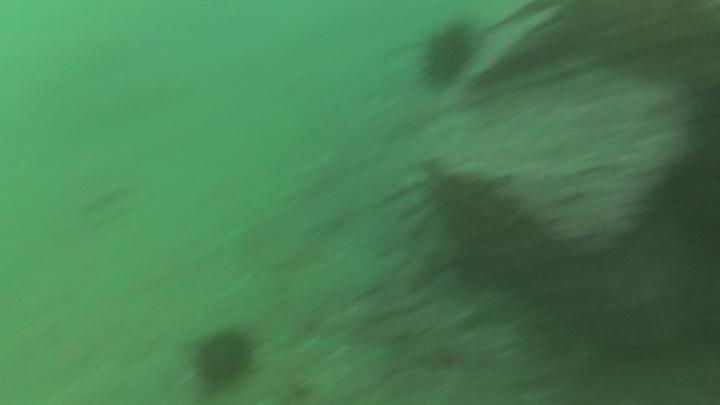echinus: (188, 324, 257, 397), (416, 23, 479, 91)
